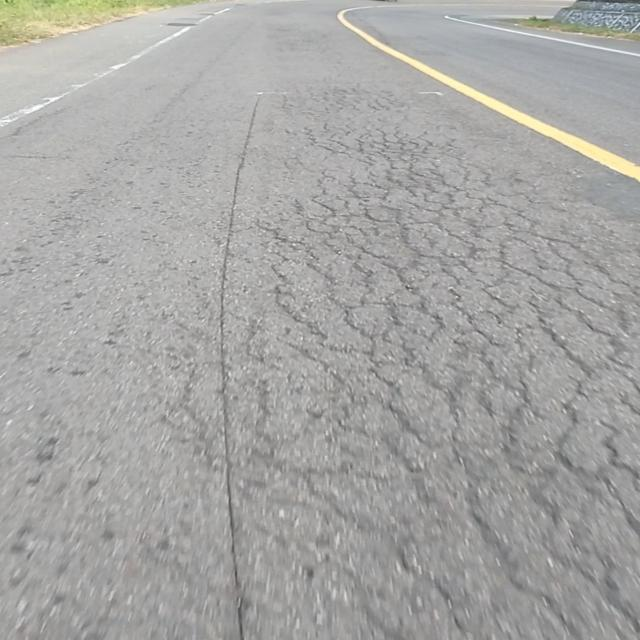Retak Buaya: (261, 103, 640, 640)
